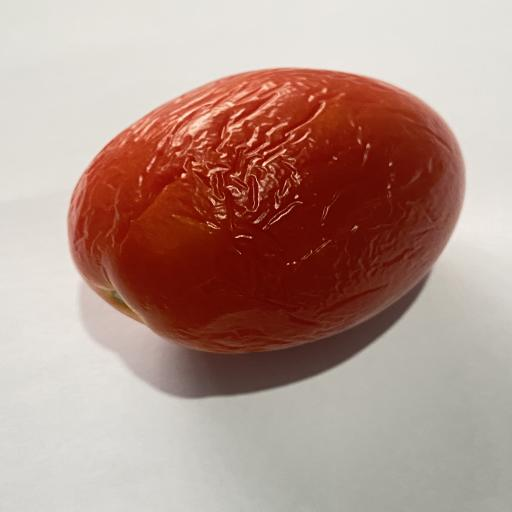spoiled: (68, 68, 464, 353)
